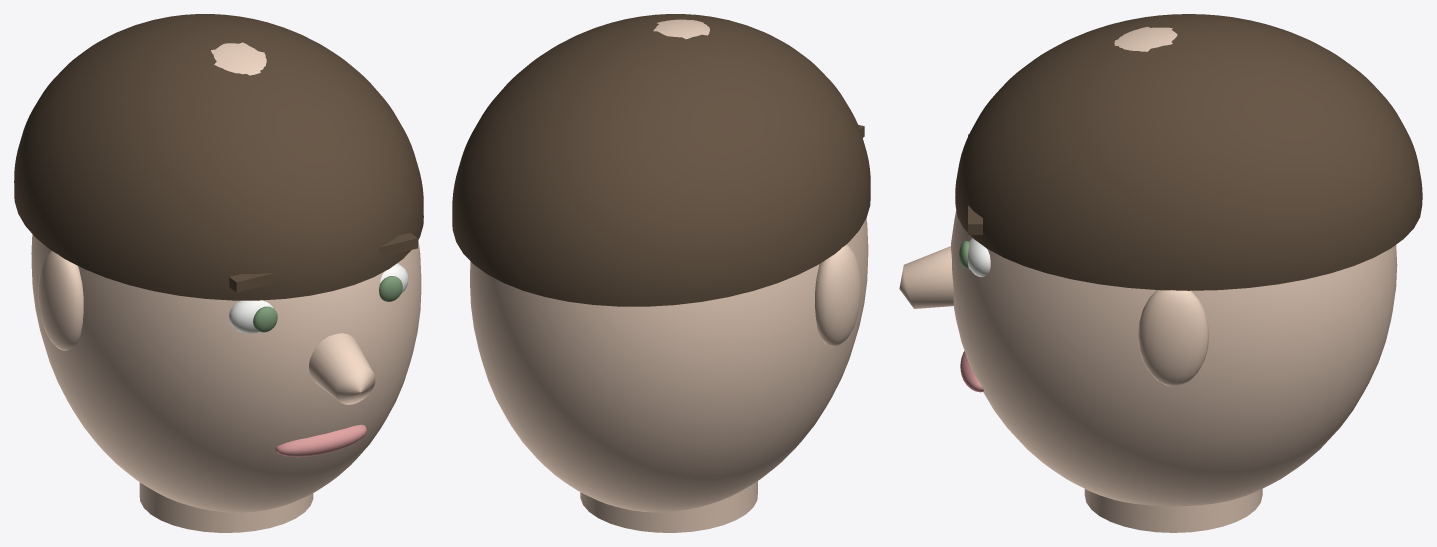
File: human_face.glb
3 renders of one model, left to right at view 1: azimuth 30°, elevation 25°; view 2: azimuth 150°, elevation 25°; view 3: azimuth 270°, elevation 25°, orthographic. The views are drawn at different scales.
Parts seen in each view (by area): view 1: human_face; view 2: human_face; view 3: human_face.
Boxes of the visible parts, x1=… form: human_face: x1=14, y1=14, x2=423, y2=532; human_face: x1=452, y1=14, x2=870, y2=532; human_face: x1=899, y1=14, x2=1422, y2=532.
Bounding box in the file's own units: 0.1678 × 0.2 × 0.2059.
